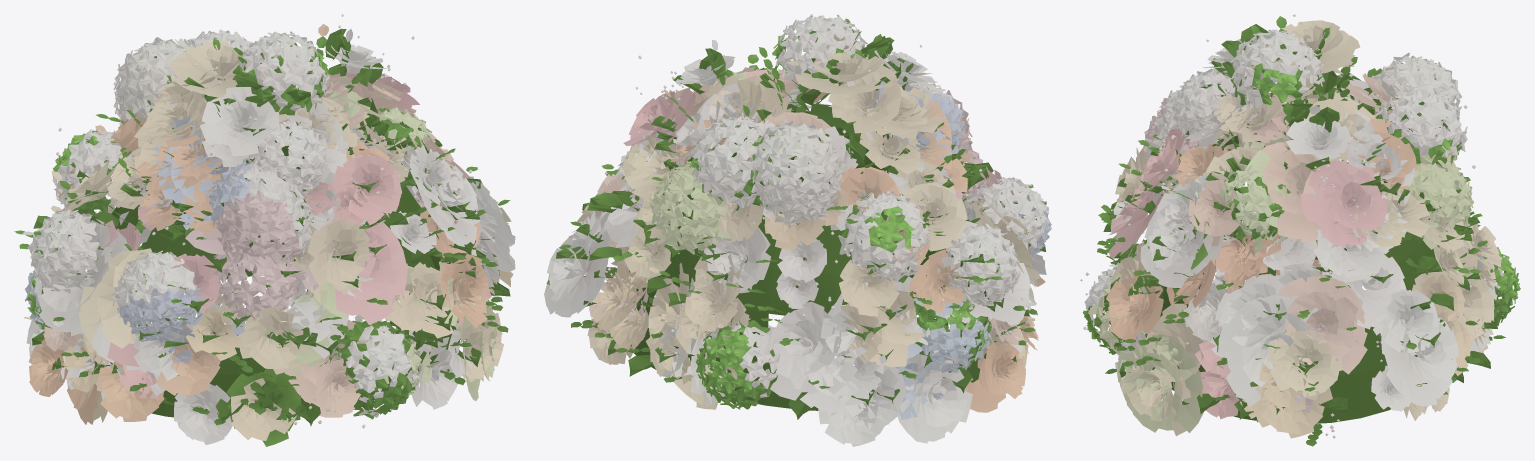
File: mound_c_bright_v5.glb
3 renders of one model, left to right at view 1: azimuth 30°, elevation 25°; view 2: azimuth 150°, elevation 25°; view 3: azimuth 270°, elevation 25°, orthographic. The views are drawn at different scales.
Parts seen in each view (by area): view 1: petals; view 2: petals; view 3: petals.
Boxes of the visible parts, x1,y1,x2,y2 form: petals: (14,14,515,446); petals: (544,14,1051,446); petals: (1080,14,1520,446).
Size of the model in its own units: 0.0154 by 0.0105 by 0.0125.
